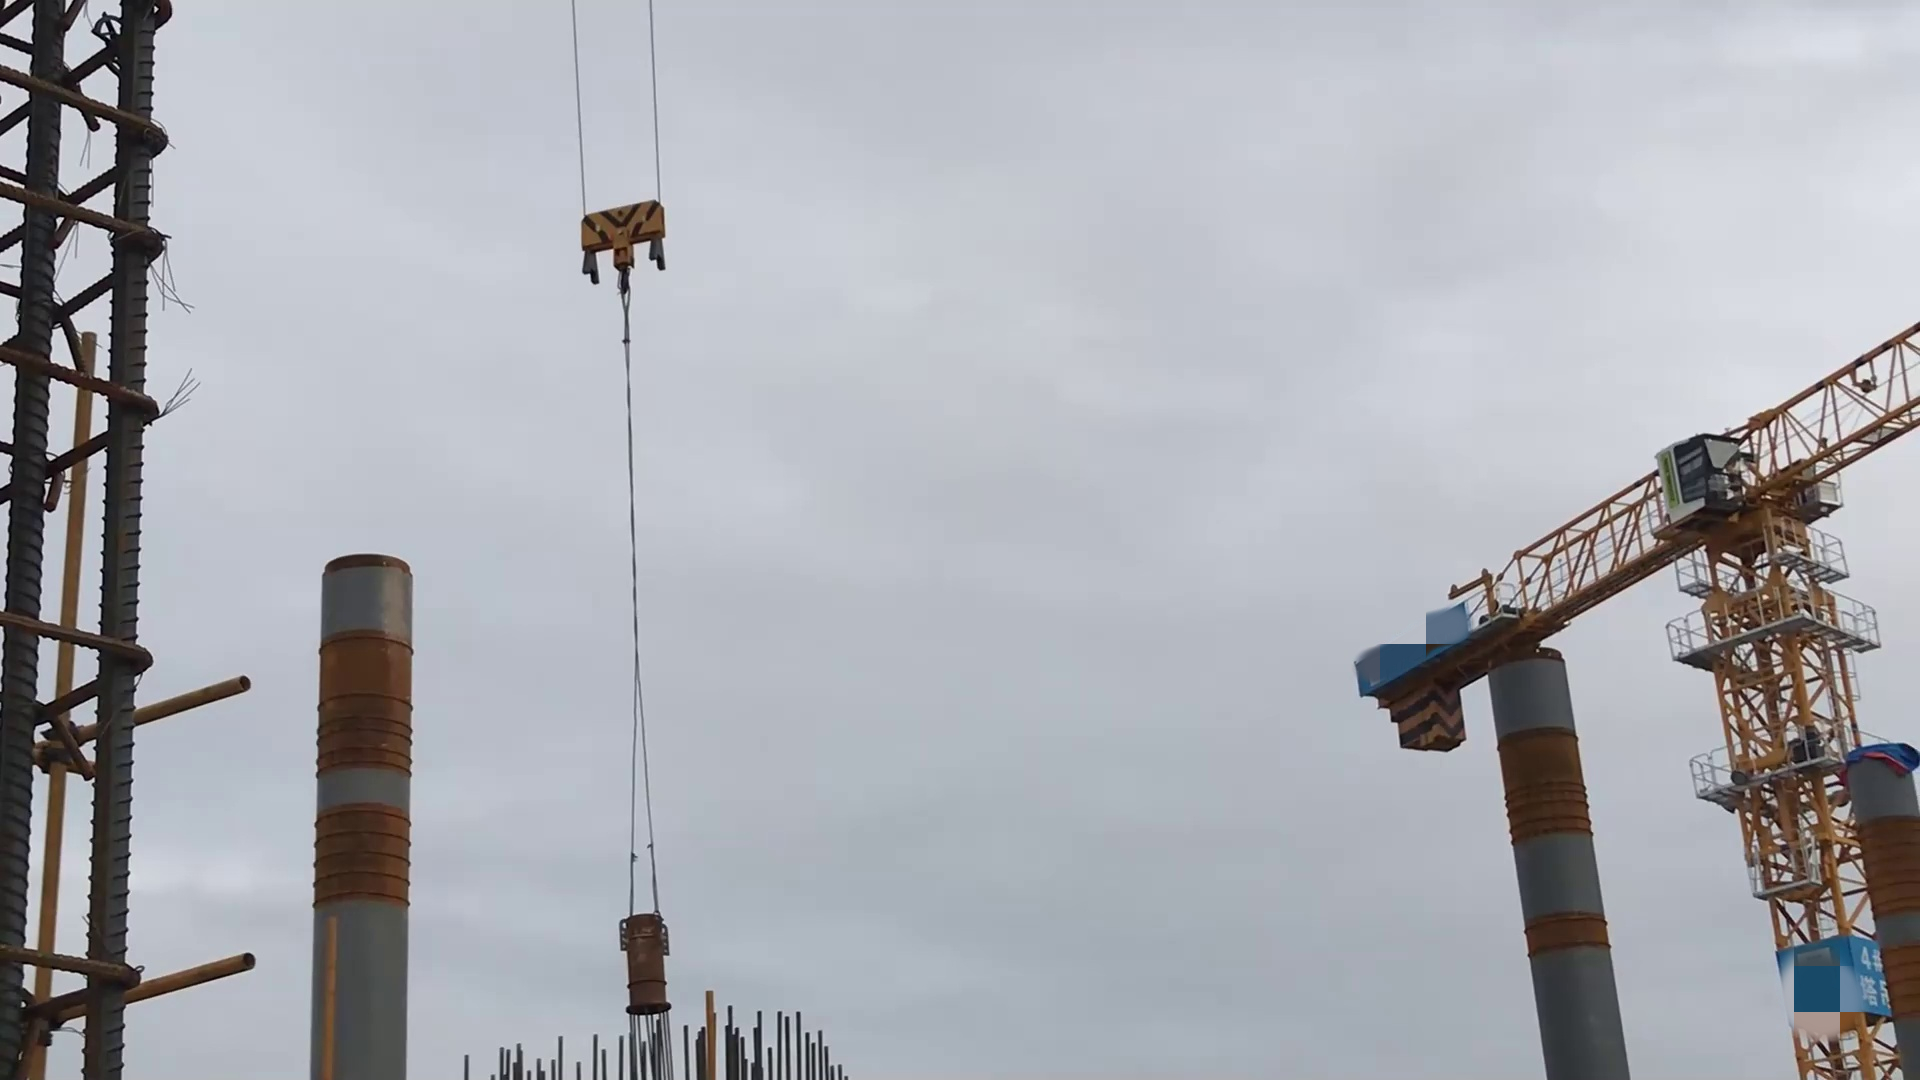hook: (579, 199, 667, 272)
